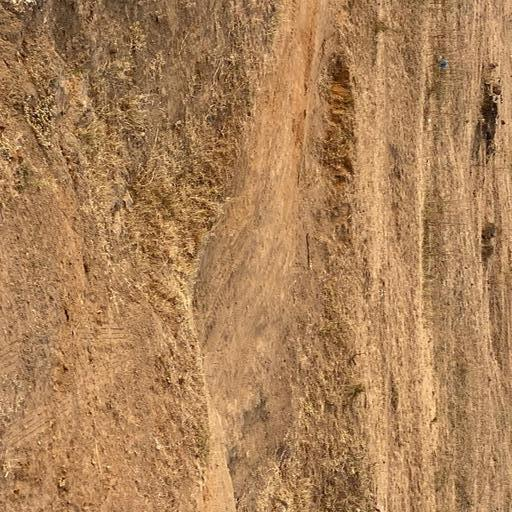vehicle_track: (194, 0, 325, 414)
